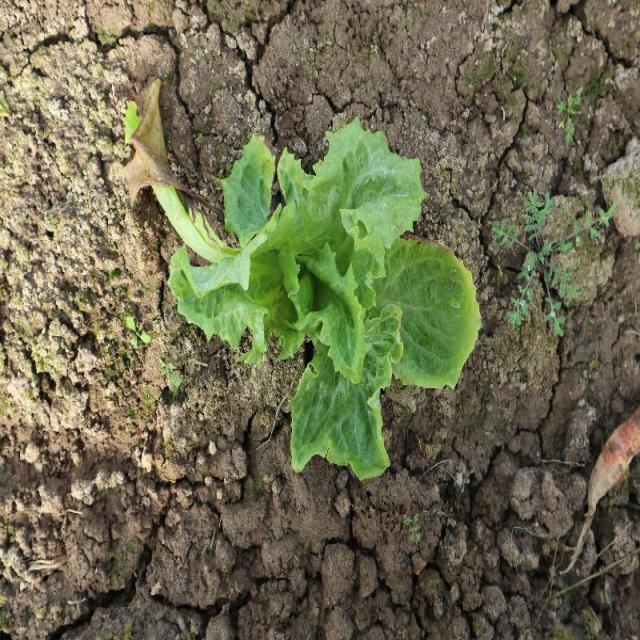crop: (169, 118, 484, 485)
